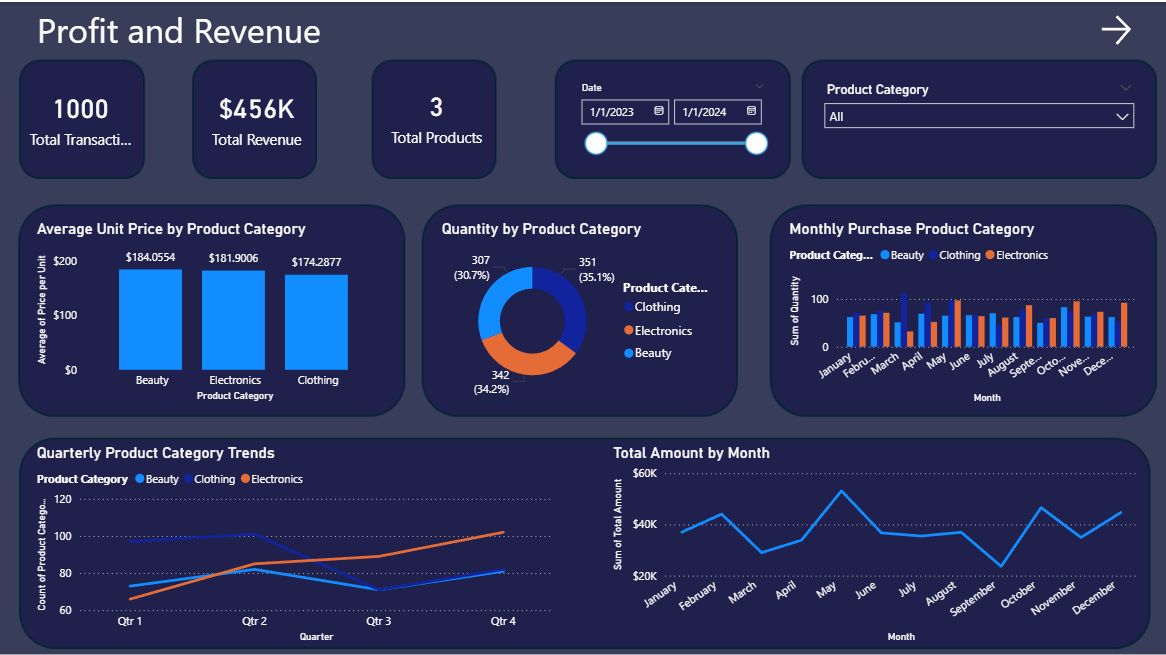

The dashboard page shown, as its layout file describes it:
{"tool":"powerbi","page":{"name":"Page 1","canvas":[1280,720],"ordinal":0},"visuals":[{"type":"card","fields":{"Values":["Sum(Sales Dataset.Total Amount)"]},"box":[214.3,82.9,135.7,88.6],"z":0},{"type":"card","fields":{"Values":["CountNonNull(Sales Dataset.Product Category)"]},"box":[24.3,82.9,127.1,88.6],"z":1000},{"type":"slicer","fields":{"Values":["Sales Dataset.Date"]},"box":[625.7,82.9,225.7,88.6],"z":2000},{"type":"card","fields":{"Values":["Count(Sales Dataset.Product Category)"]},"box":[408.6,82.9,141.4,82.9],"z":3000},{"type":"clusteredColumnChart","title":"Average Unit Price by Product Category","fields":{"Y":["Avg(Sales Dataset.Price per Unit)"],"Category":["Sales Dataset.Product Category"]},"box":[35,238.3,391.7,205],"z":4000},{"type":"lineChart","title":"Total Amount by Month","fields":{"Category":["Sales Dataset.Date.Variation.Date Hierarchy.Month"],"Y":["Sum(Sales Dataset.Total Amount)"]},"box":[668.3,485,585,223.3],"z":5000},{"type":"clusteredColumnChart","title":"Monthly Purchase Product Category","fields":{"Category":["Sales Dataset.Date.Variation.Date Hierarchy.Month"],"Series":["Sales Dataset.Product Category"],"Y":["Sum(Sales Dataset.Quantity)"]},"box":[861.7,238.3,391.7,206.7],"z":6000},{"type":"lineChart","title":"Quarterly Product Category Trends","fields":{"Category":["Sales Dataset.Date.Variation.Date Hierarchy.Quarter"],"Series":["Sales Dataset.Product Category"],"Y":["CountNonNull(Sales Dataset.Product Category)"]},"box":[35,485,576.7,223.3],"z":7000},{"type":"donutChart","title":"Quantity by Product Category","fields":{"Category":["Sales Dataset.Product Category"],"Y":["CountNonNull(Sales Dataset.Quantity)"]},"box":[480,238.6,305.7,204.3],"z":8000},{"type":"slicer","fields":{"Values":["Sales Dataset.Product Category"]},"box":[894.3,82.9,360,88.6],"z":9000},{"type":"textbox","box":[35.7,0,672.9,64.3],"z":11000},{"type":"actionButton","box":[1203.4,9.6,50.8,42.5],"z":11001}]}

Visuals, with their boxes in screenshot pixels (x1, y1, x2, y2), scaled from the page's 1280x720 canvas onto the 1166x655 screenshot:
card - Sum(Sales Dataset.Total Amount): 195,75,319,156
card - CountNonNull(Sales Dataset.Product Category): 22,75,138,156
slicer - Sales Dataset.Date: 570,75,776,156
card - Count(Sales Dataset.Product Category): 372,75,501,151
"Average Unit Price by Product Category" clusteredColumnChart: 32,217,389,403
"Total Amount by Month" lineChart: 609,441,1142,644
"Monthly Purchase Product Category" clusteredColumnChart: 785,217,1142,405
"Quarterly Product Category Trends" lineChart: 32,441,557,644
"Quantity by Product Category" donutChart: 437,217,716,403
slicer - Sales Dataset.Product Category: 815,75,1143,156
textbox: 33,0,645,58
actionButton: 1096,9,1142,47
